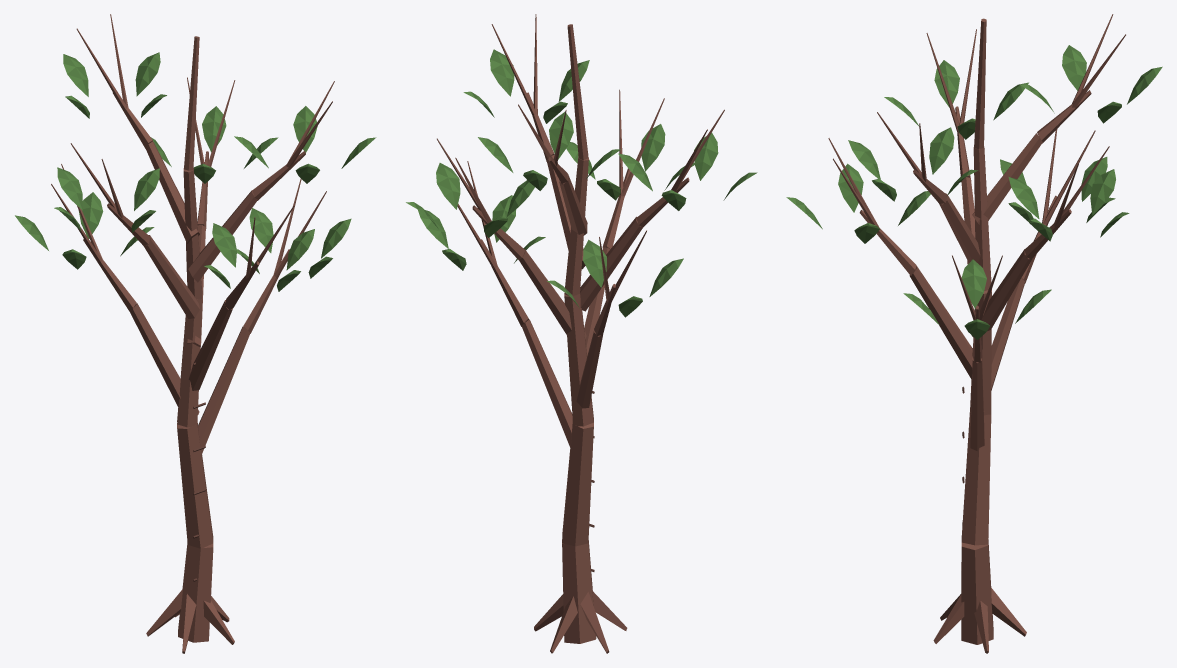
File: cherry_young.glb
3 renders of one model, left to right at view 1: azimuth 30°, elevation 25°; view 2: azimuth 150°, elevation 25°; view 3: azimuth 270°, elevation 25°, orthographic. The views are drawn at different scales.
Visible parts, largest first — view 1: branches, leaves; view 2: branches, leaves; view 3: branches, leaves.
Boxes of the visible parts, x1,y1,x2,y2 form: branches: (51,14,334,653); leaves: (15,52,376,291); branches: (437,14,724,653); leaves: (406,49,757,317); branches: (828,14,1125,653); leaves: (786,45,1162,339).
Bounding box in the file's own units: 0.88 × 1.6 × 0.88.
